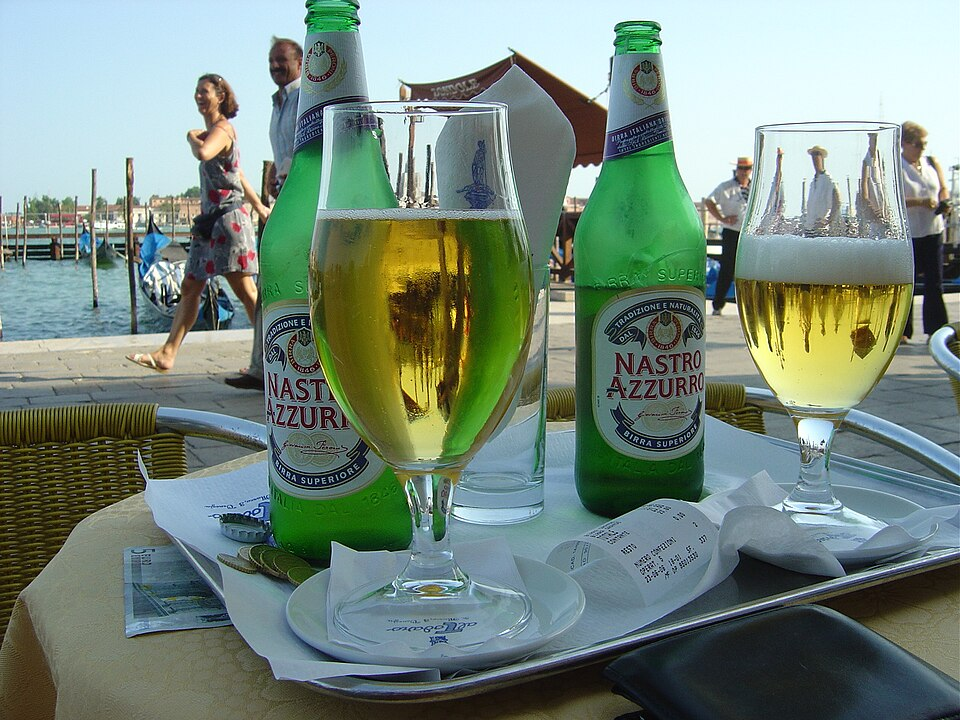beer-bottle: (238, 0, 415, 567), (565, 15, 715, 520)
